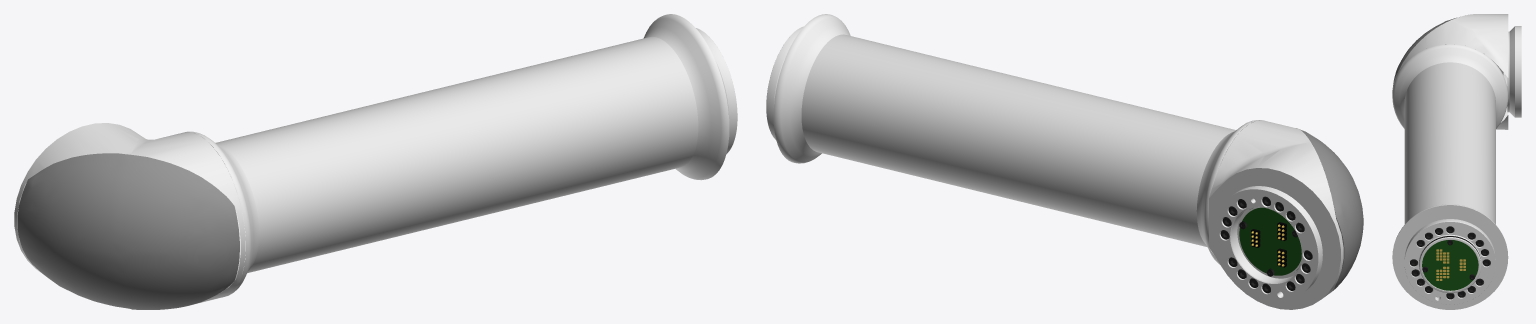
3 renders of one model, left to right at view 1: azimuth 30°, elevation 25°; view 2: azimuth 150°, elevation 25°; view 3: azimuth 270°, elevation 25°, orthographic. The views are drawn at different scales.
Visible parts, largest first — view 1: L86.001; view 2: L86.001; view 3: L86.001.
Part boxes in pixels (x1,y1,x2,y2): L86.001: (14, 14, 737, 309); L86.001: (766, 14, 1363, 309); L86.001: (1392, 14, 1521, 309).
Bounding box in the file's own units: 0.3839 × 0.0862 × 0.0961.
